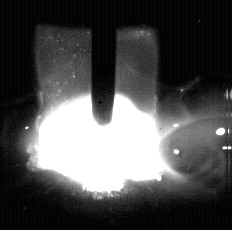arame: (92, 0, 116, 126)
poca: (36, 0, 160, 230)
